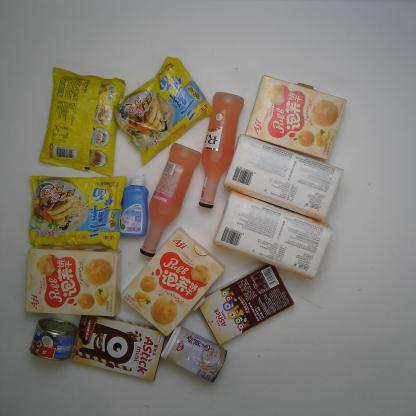Alcohol: (138, 140, 203, 260), (196, 90, 247, 211)
Canned Food: (158, 323, 230, 384), (28, 317, 80, 362)
Dessert: (117, 225, 227, 338), (244, 73, 349, 162), (196, 262, 296, 348), (23, 244, 124, 320), (69, 312, 168, 384)
Instant Noodles: (115, 56, 215, 166), (37, 66, 128, 178), (27, 171, 130, 252)
Personal Hygiene: (114, 172, 150, 236)
Tissue: (211, 189, 335, 281), (222, 132, 344, 223)
